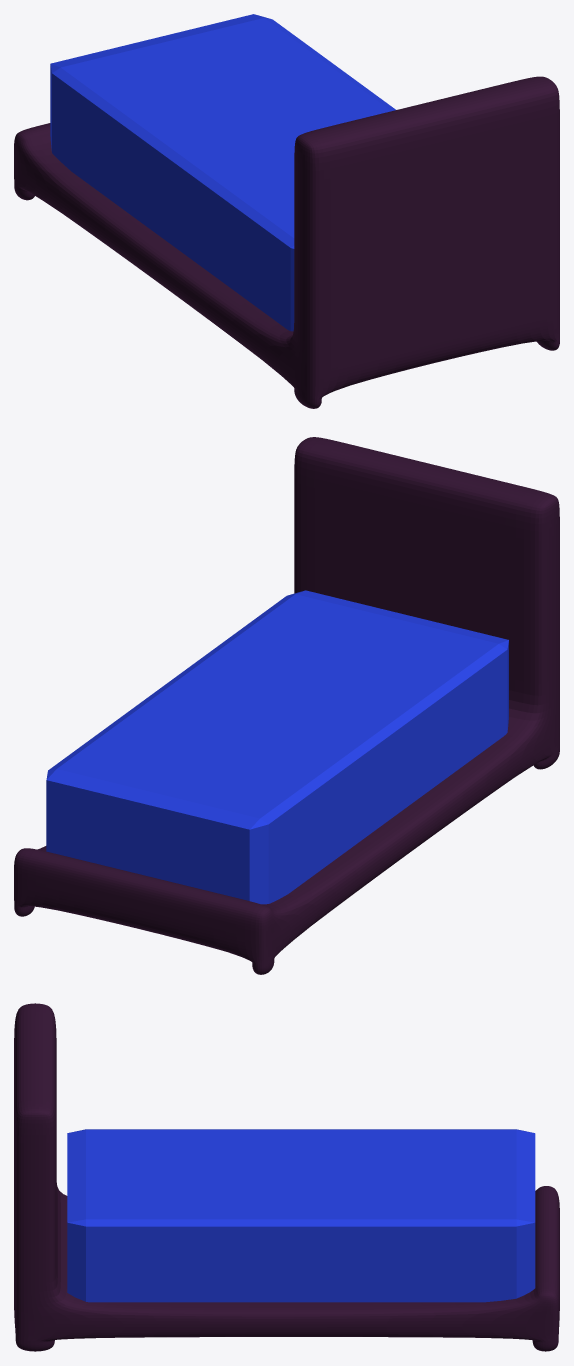
Rendered from bed.fbx.
3 views of the same model, one above another, from view 1: azimuth 30°, elevation 25°; view 2: azimuth 150°, elevation 25°; view 3: azimuth 270°, elevation 25° (orthographic). The views are drawn at different scales.
Parts seen in each view (by area): view 1: Cube.003, Cube.004; view 2: Cube.004, Cube.003; view 3: Cube.004, Cube.003.
Part boxes in pixels (x1=…): Cube.003: x1=14, y1=76, x2=559, y2=408; Cube.004: x1=50, y1=14, x2=395, y2=331; Cube.004: x1=46, y1=590, x2=508, y2=904; Cube.003: x1=14, y1=437, x2=559, y2=974; Cube.004: x1=67, y1=1129, x2=535, y2=1302; Cube.003: x1=14, y1=1003, x2=559, y2=1351.
Bounding box in the file's own units: 60.67 × 61.08 × 125.
